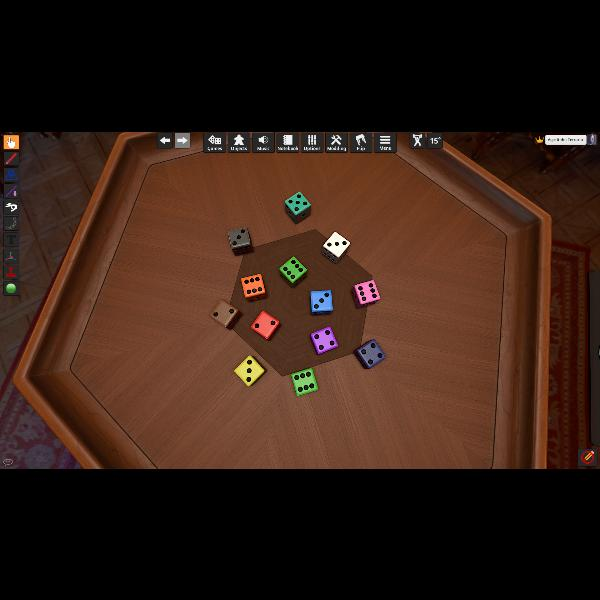d6: (234, 355, 264, 387), (321, 230, 349, 264), (355, 339, 386, 369), (250, 310, 280, 340), (210, 299, 240, 329), (284, 190, 310, 224), (279, 256, 307, 286), (310, 326, 338, 354), (352, 280, 379, 308), (240, 273, 266, 301), (290, 368, 318, 394), (228, 226, 252, 256), (310, 290, 332, 314)
